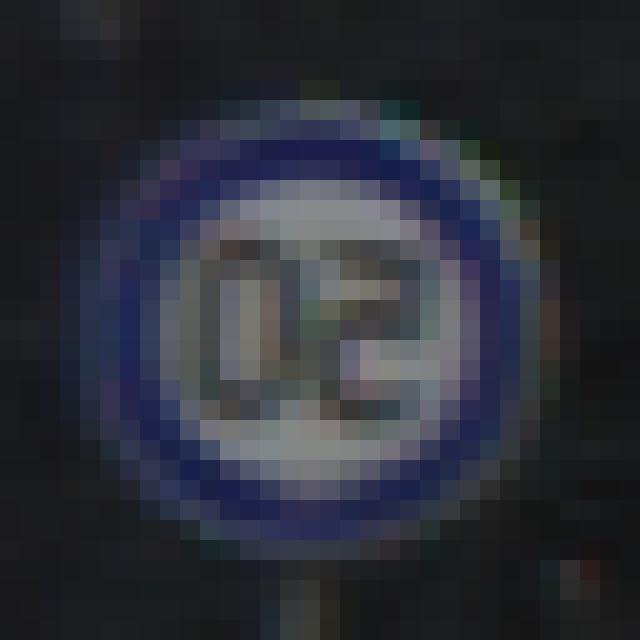SPEED LIMIT 50: (134, 160, 494, 520)
